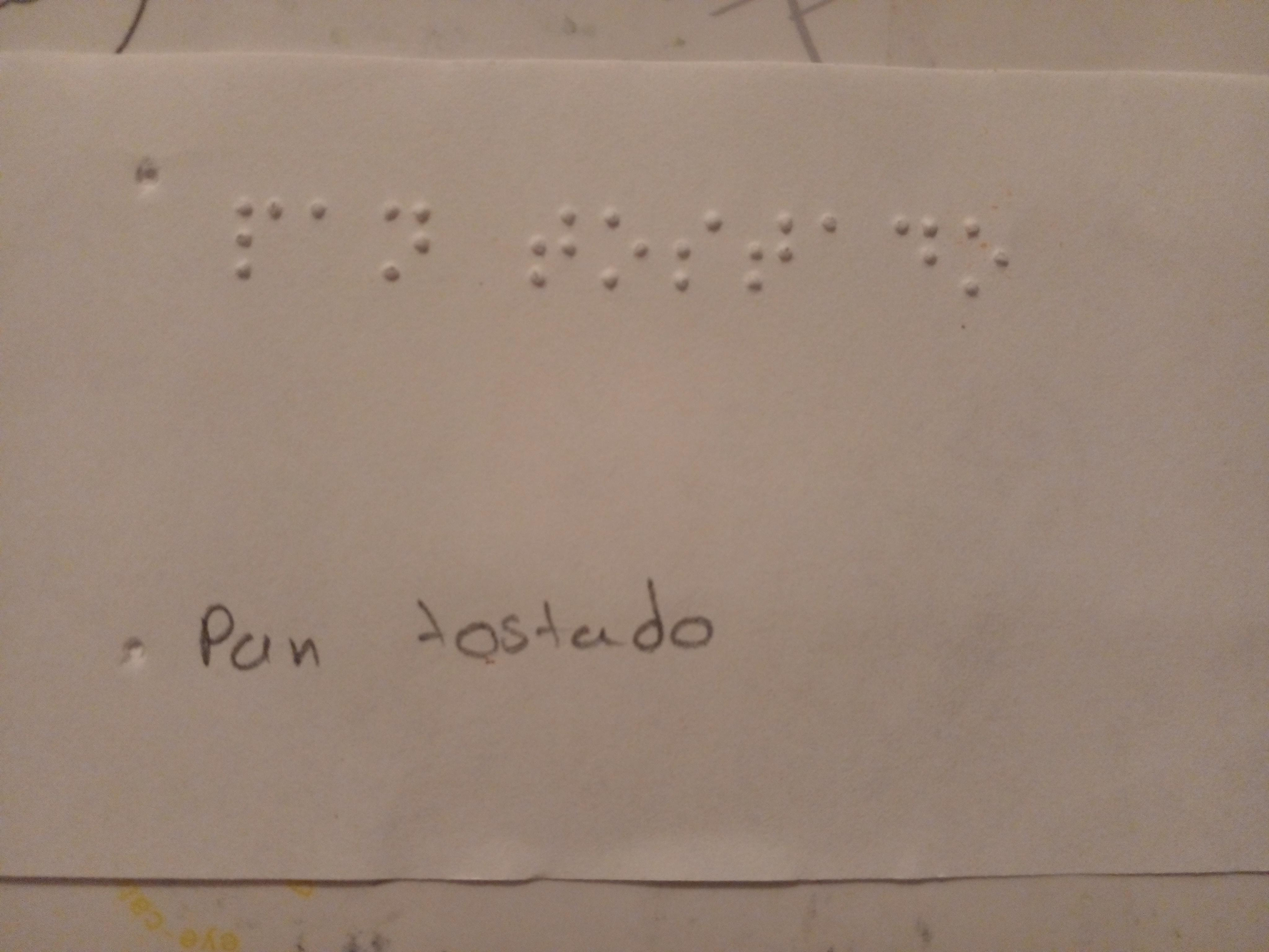a: (290, 177, 341, 243), (810, 201, 847, 243)
d: (889, 197, 943, 285)
n: (369, 184, 438, 288)
o: (951, 205, 1024, 311), (589, 205, 658, 294)
p: (208, 175, 293, 294)
s: (661, 208, 722, 304)
t: (507, 184, 582, 301), (723, 194, 802, 298)
